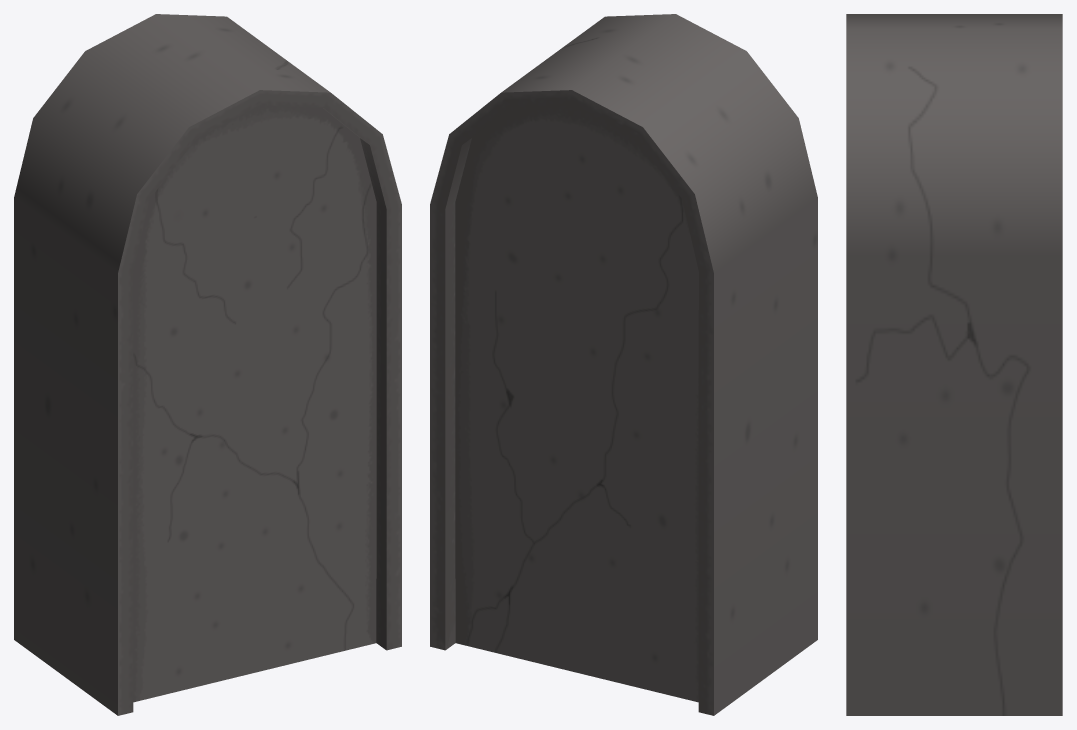
File: Tombstone_03.fbx
The picture shows the model from 3 angles, left to right: view 1: azimuth 30°, elevation 25°; view 2: azimuth 150°, elevation 25°; view 3: azimuth 270°, elevation 25°; orthographic projection. The views are drawn at different scales.
Visible parts, largest first — view 1: Tombstone_03; view 2: Tombstone_03; view 3: Tombstone_03.
Part boxes in pixels (<box>): Tombstone_03: <box>14,14,401,715</box>; Tombstone_03: <box>430,14,817,715</box>; Tombstone_03: <box>846,14,1062,715</box>.
Size of the model in its own units: 1.01 by 2.01 by 0.6403.
